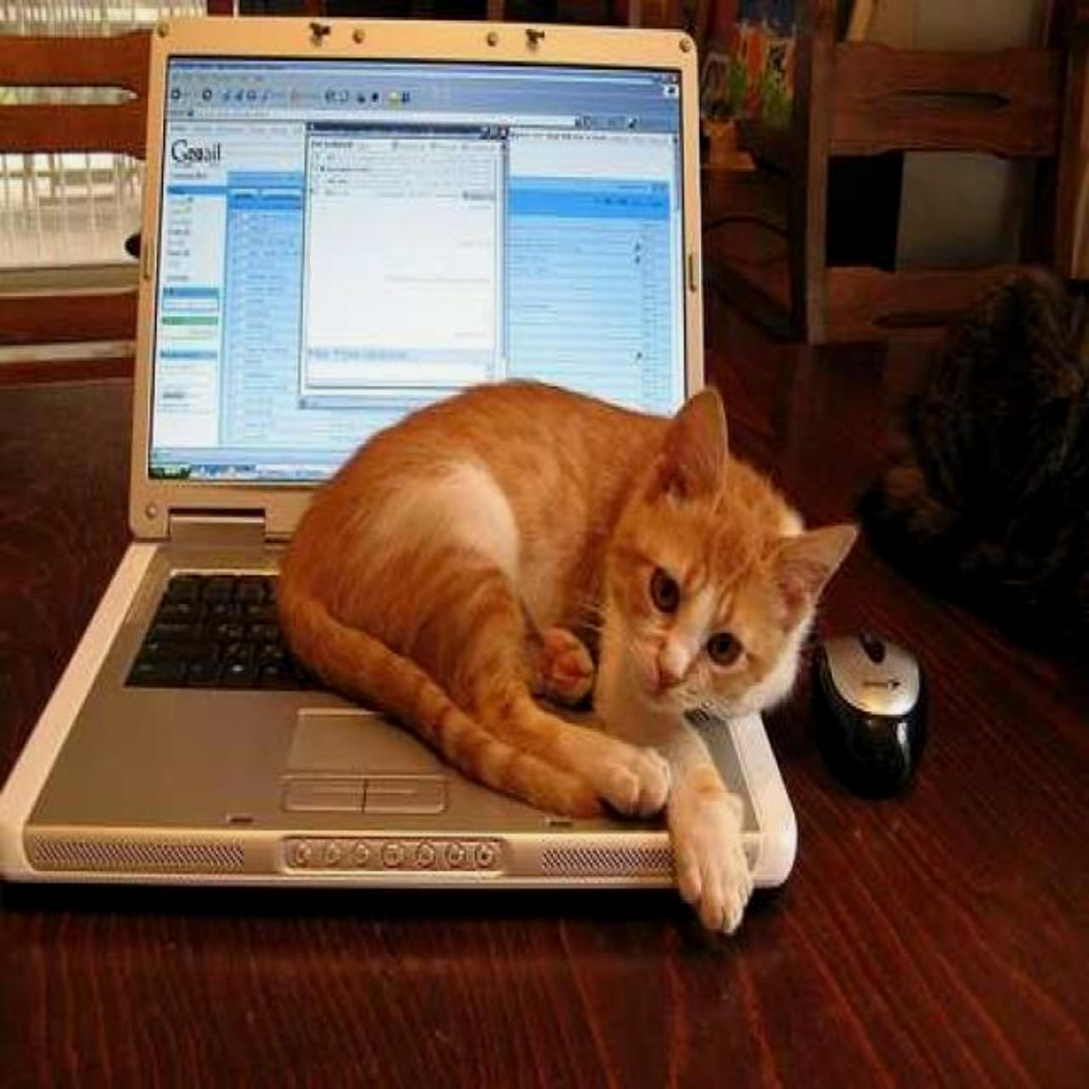laptop: (141, 20, 761, 896)
